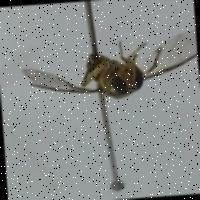Oriental-fruit-fly: (6, 13, 200, 121)
